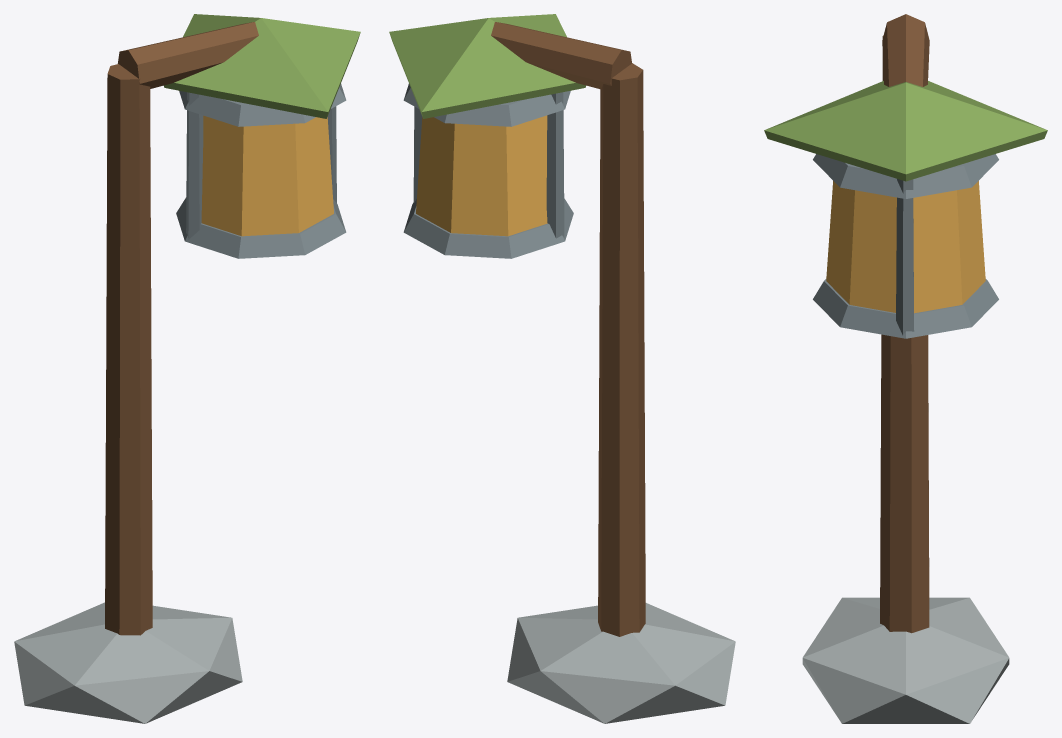
File: CC_Lamp.fbx
3 renders of one model, left to right at view 1: azimuth 30°, elevation 25°; view 2: azimuth 150°, elevation 25°; view 3: azimuth 270°, elevation 25°, orthographic. The views are drawn at different scales.
Parts seen in each view (by area): view 1: Stem.006, Base.001, Lantern, Shade, Arm, Rim, Rim.001, Guard, Guard.001; view 2: Stem.006, Base.001, Lantern, Shade, Arm, Rim, Rim.001, Guard, Guard.001; view 3: Base.001, Shade, Lantern, Stem.006, Rim, Rim.001, Arm, Guard.001.
Part boxes in pixels (bbox=[...]): Stem.006: bbox=[105, 64, 152, 635]; Base.001: bbox=[14, 602, 242, 723]; Lantern: bbox=[201, 115, 333, 236]; Shade: bbox=[164, 14, 360, 118]; Arm: bbox=[117, 22, 258, 88]; Rim: bbox=[176, 197, 346, 258]; Rim.001: bbox=[179, 84, 346, 126]; Guard: bbox=[186, 92, 203, 239]; Guard.001: bbox=[327, 106, 336, 203]; Stem.006: bbox=[598, 63, 645, 636]; Base.001: bbox=[507, 603, 735, 723]; Lantern: bbox=[416, 115, 547, 236]; Shade: bbox=[389, 14, 585, 118]; Arm: bbox=[491, 22, 631, 89]; Rim: bbox=[403, 198, 573, 258]; Rim.001: bbox=[403, 84, 570, 126]; Guard: bbox=[546, 92, 564, 238]; Guard.001: bbox=[413, 106, 422, 203]; Base.001: bbox=[802, 597, 1009, 723]; Shade: bbox=[764, 81, 1047, 181]; Lantern: bbox=[826, 181, 985, 313]; Stem.006: bbox=[880, 35, 929, 633]; Rim: bbox=[813, 279, 998, 338]; Rim.001: bbox=[813, 154, 998, 198]; Arm: bbox=[882, 14, 929, 86]; Guard.001: bbox=[896, 179, 914, 335].
Size of the model in its own units: 1.01 by 1.88 by 0.7.
